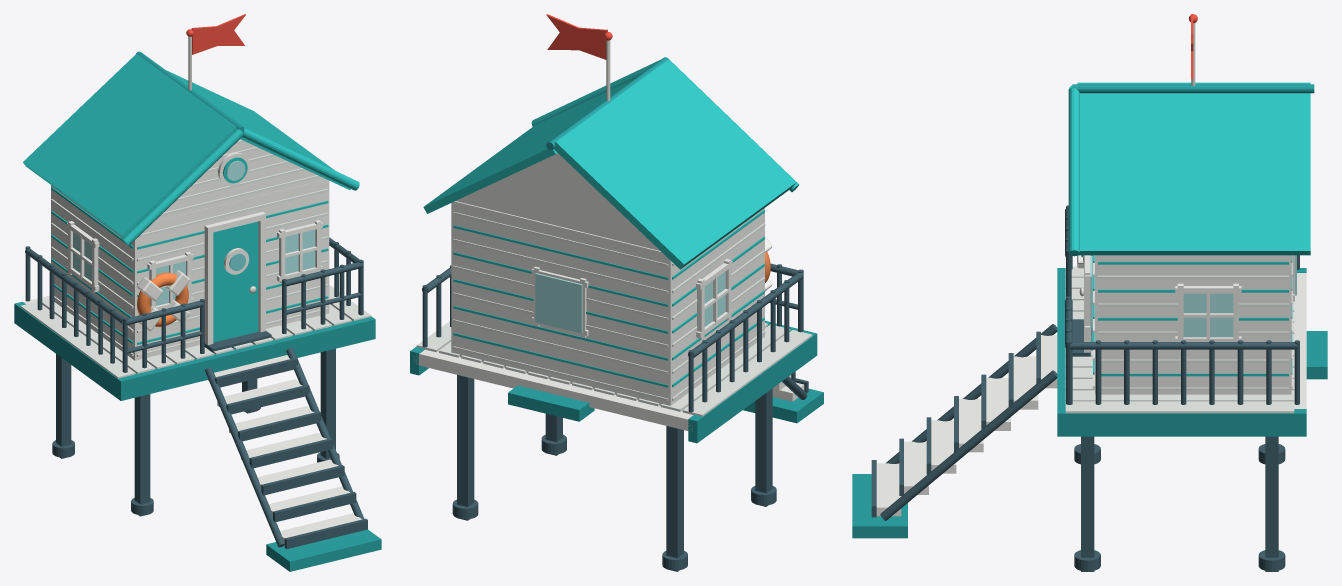
Rendered from casita_playa.glb.
The picture shows the model from 3 angles, left to right: view 1: azimuth 30°, elevation 25°; view 2: azimuth 150°, elevation 25°; view 3: azimuth 270°, elevation 25°; orthographic projection. The views are drawn at different scales.
Visible parts, largest first — view 1: TechoIzquierdo, CuerpoCasa, FaldonFrontal, PuertaTurquesa, Fronton, DescansoEscalera, TechoDerecho, FaldonIzquierdo, Pilote_-2.08_-1.75, TablaDeck_00, FasciaFrontalIzq, LargueroEscaleraIzq (+32 smaller); view 2: CuerpoCasa, TechoIzquierdo, Fronton, PlataformaPrincipal, TechoDerecho, FaldonIzquierdo, VentanaTrasera_Vidrio, Pilote_-2.08_1.3, Pilote_2.08_1.3, TablaDeck_00, Pilote_-2.08_-1.75, EscalonTrasero (+18 smaller); view 3: TechoDerecho, CuerpoCasa, FaldonDerecho, TablaDeck_12, Cumbrera, DescansoEscalera, LargueroEscaleraDer, VentanaLateralDer_Vidrio, FasciaFrontalDer, BarandaLateralDer_Superior, Pilote_2.08_1.3, Pilote_2.08_-1.75 (+18 smaller).
Boxes of the visible parts, <box> form: TechoIzquierdo: <box>23,53,236,237</box>; CuerpoCasa: <box>51,179,329,360</box>; FaldonFrontal: <box>116,316,375,400</box>; PuertaTurquesa: <box>213,221,258,342</box>; Fronton: <box>155,139,325,220</box>; DescansoEscalera: <box>266,529,381,571</box>; TechoDerecho: <box>166,70,350,189</box>; FaldonIzquierdo: <box>14,301,126,399</box>; Pilote_-2.08_-1.75: <box>134,394,150,516</box>; TablaDeck_00: <box>20,301,135,378</box>; FasciaFrontalIzq: <box>122,128,243,245</box>; LargueroEscaleraIzq: <box>205,367,284,547</box>; CuerpoCasa: <box>451,201,764,405</box>; TechoIzquierdo: <box>554,60,796,269</box>; Fronton: <box>456,153,659,250</box>; PlataformaPrincipal: <box>414,327,783,431</box>; TechoDerecho: <box>423,79,633,213</box>; FaldonIzquierdo: <box>688,333,814,443</box>; VentanaTrasera_Vidrio: <box>535,273,582,333</box>; Pilote_-2.08_1.3: <box>666,426,683,571</box>; Pilote_2.08_1.3: <box>457,375,474,520</box>; TablaDeck_00: <box>682,330,812,416</box>; Pilote_-2.08_-1.75: <box>755,388,772,506</box>; EscalonTrasero: <box>508,385,594,421</box>; TechoDerecho: <box>1079,93,1310,255</box>; CuerpoCasa: <box>1095,255,1291,394</box>; FaldonDerecho: <box>1062,409,1306,436</box>; TablaDeck_12: <box>1065,401,1294,413</box>; Cumbrera: <box>1072,84,1314,93</box>; DescansoEscalera: <box>852,474,907,538</box>; LargueroEscaleraDer: <box>880,370,1057,520</box>; VentanaLateralDer_Vidrio: <box>1183,293,1233,337</box>; FasciaFrontalDer: <box>1068,88,1079,256</box>; BarandaLateralDer_Superior: <box>1070,342,1297,349</box>; Pilote_2.08_1.3: <box>1265,436,1278,571</box>; Pilote_2.08_-1.75: <box>1081,436,1094,571</box>.
Size of the model in its own units: 5.7 by 9.2 by 7.86.
